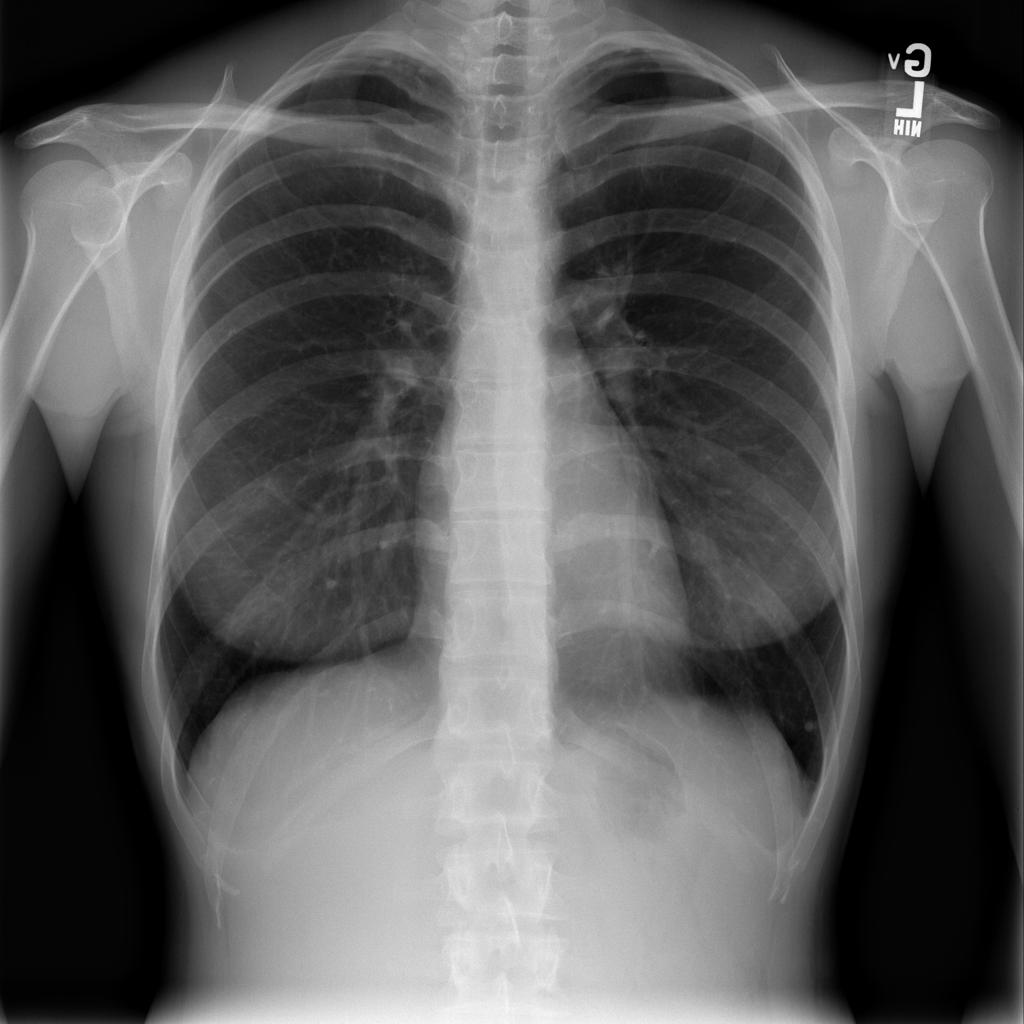nodule: (794, 703, 827, 744)
